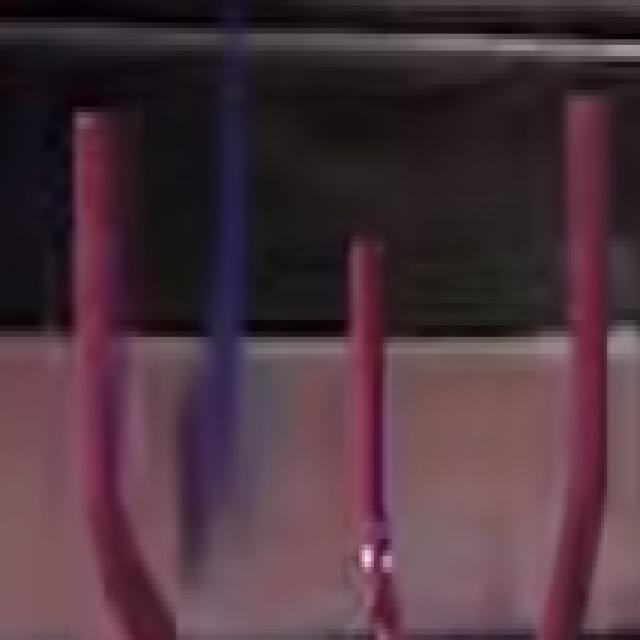Reef: (74, 111, 122, 537), (567, 96, 608, 514), (354, 233, 384, 572)
